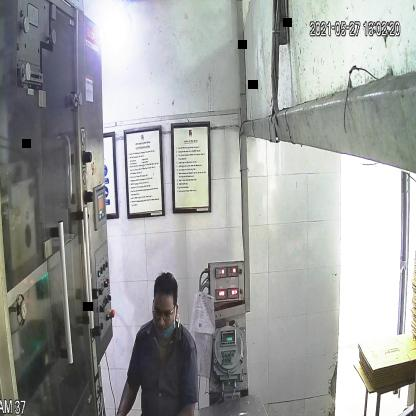goggles: (148, 300, 178, 328)
